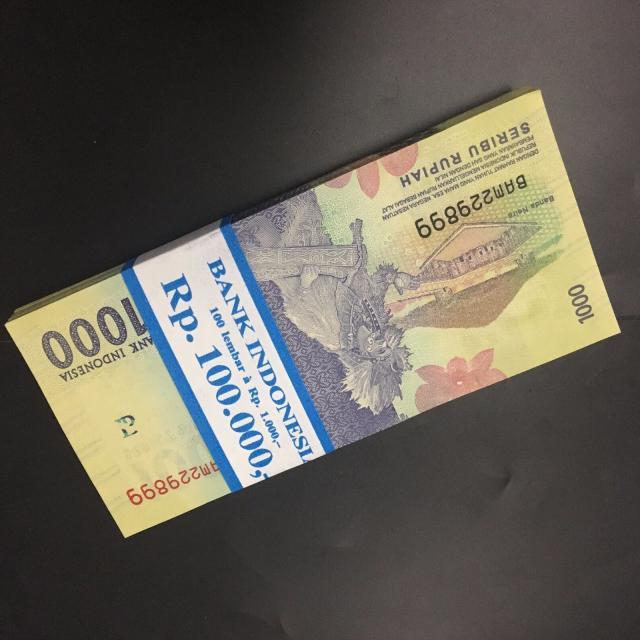1000IndonesianRupiah: (11, 100, 618, 518)
